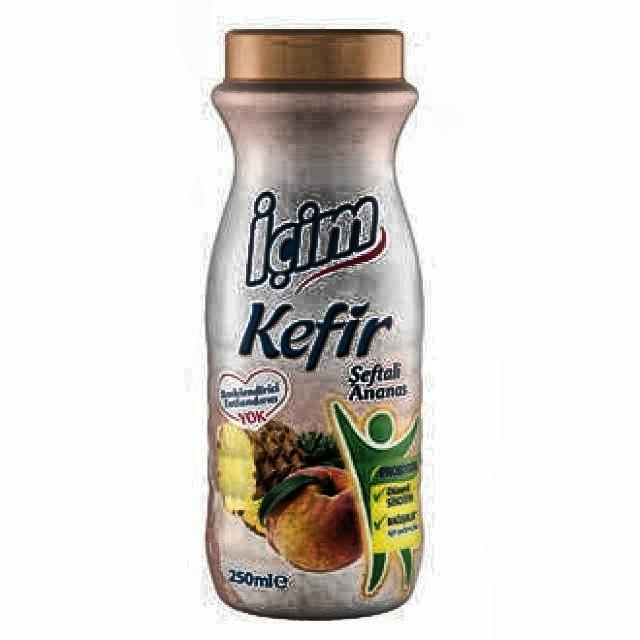plastic: (204, 29, 425, 623)
